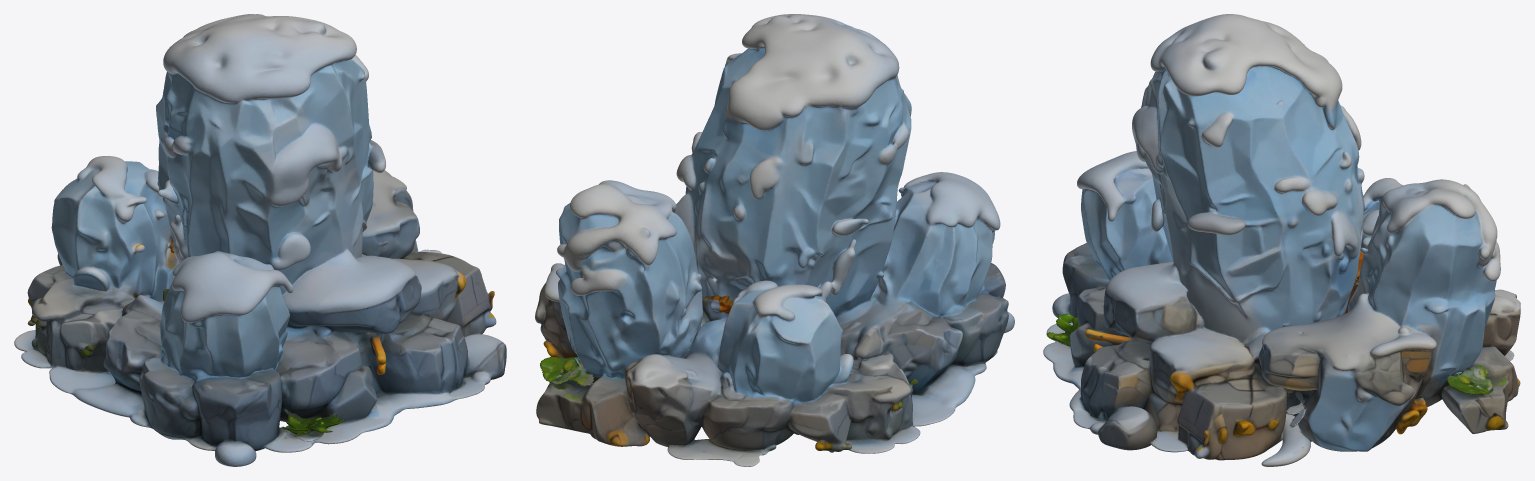
Rendered from ice-rock.glb.
The picture shows the model from 3 angles, left to right: view 1: azimuth 30°, elevation 25°; view 2: azimuth 150°, elevation 25°; view 3: azimuth 270°, elevation 25°; orthographic projection. The views are drawn at different scales.
Parts seen in each view (by area): view 1: tripo_node_39d7edec-73fd-4322-a303-a7de9c5457ac; view 2: tripo_node_39d7edec-73fd-4322-a303-a7de9c5457ac; view 3: tripo_node_39d7edec-73fd-4322-a303-a7de9c5457ac.
Boxes of the visible parts, x1,y1,x2,y2 form: tripo_node_39d7edec-73fd-4322-a303-a7de9c5457ac: (14, 14, 506, 466); tripo_node_39d7edec-73fd-4322-a303-a7de9c5457ac: (535, 14, 1014, 466); tripo_node_39d7edec-73fd-4322-a303-a7de9c5457ac: (1043, 14, 1520, 466).
Bounding box in the file's own units: 0.935 × 0.8314 × 0.9999.
1 material, 1 textured.
